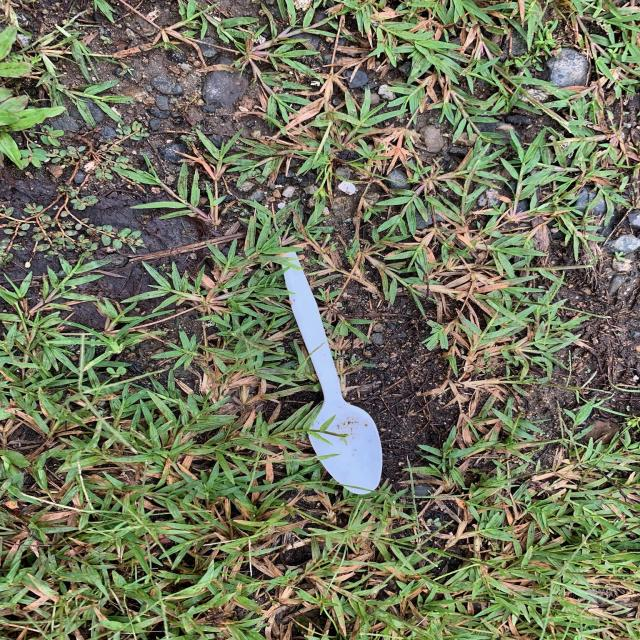litter: (282, 252, 383, 493)
